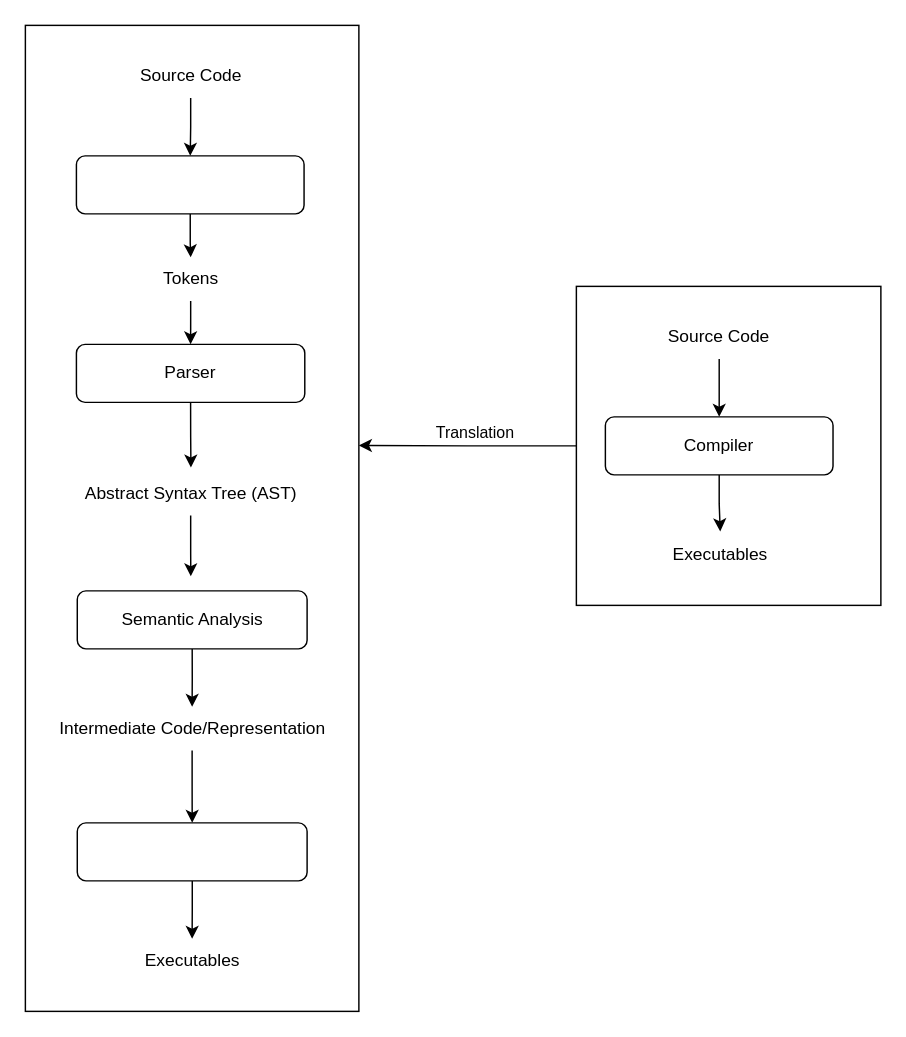
Some shapes in this 906 by 1037 pixel diagram are drawn without their labels. The shapes that lost their labels are listed below. From the top down, each one's box as (x1, y1, x2, y2) in pixels, then its label:
(75, 154, 304, 214): Scanner/Lexer
(76, 821, 307, 881): Assembler
